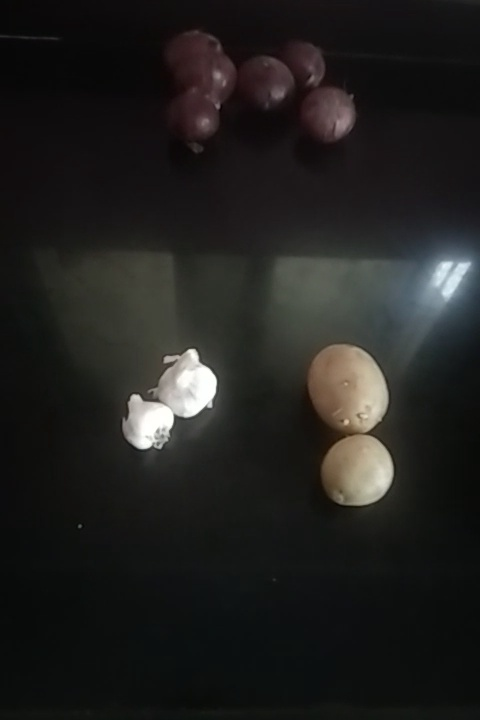garlic: (145, 349, 216, 425), (118, 393, 170, 468)
onion: (233, 55, 304, 125), (293, 81, 353, 145), (162, 54, 231, 100), (169, 90, 214, 151), (156, 32, 229, 66), (286, 41, 328, 89)
potato: (304, 342, 379, 440), (315, 440, 405, 504)
